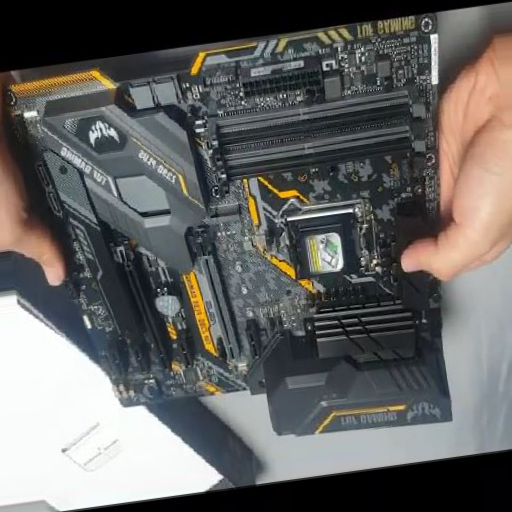CPU: (278, 197, 381, 282)
GPU: (109, 239, 174, 376), (188, 230, 243, 362)
MOTHERBOARD: (1, 10, 440, 411)
RAM: (208, 88, 432, 196)
SSD: (203, 202, 243, 225)
